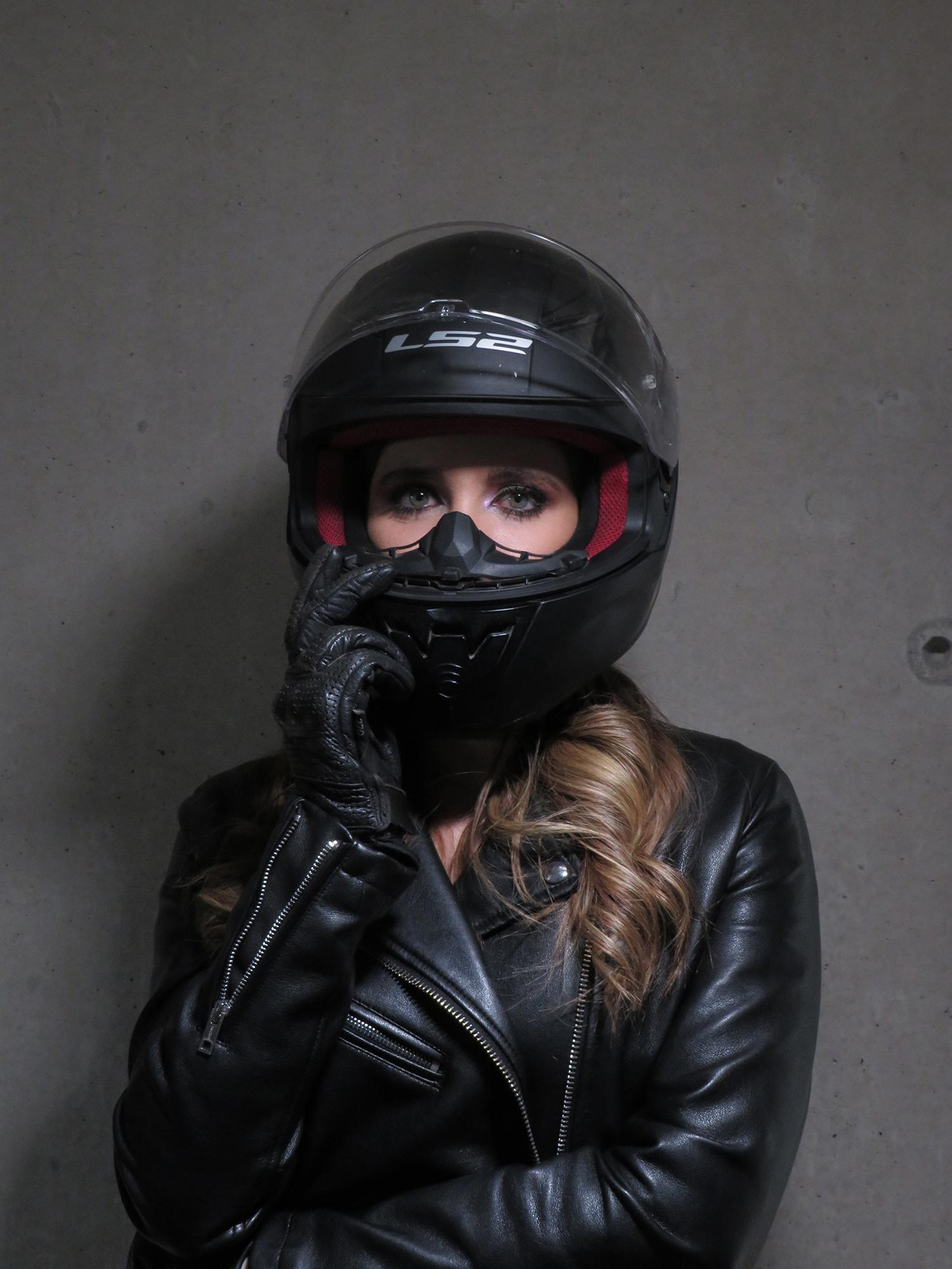helmet: (272, 217, 682, 742)
